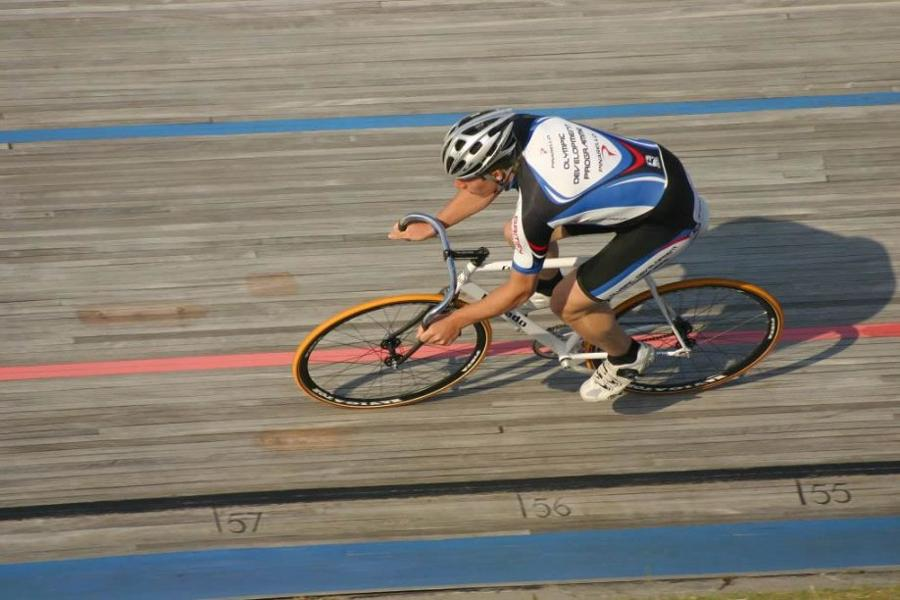person: (385, 109, 705, 407)
